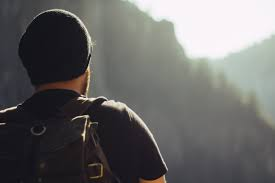Humano: (1, 8, 175, 183)
